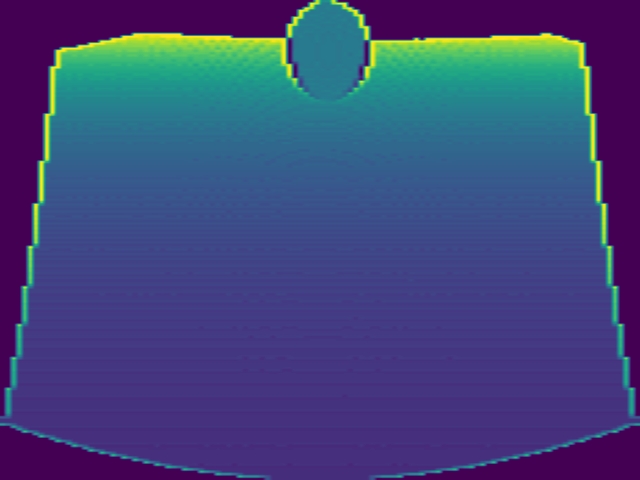sphere: (282, 1, 373, 102)
